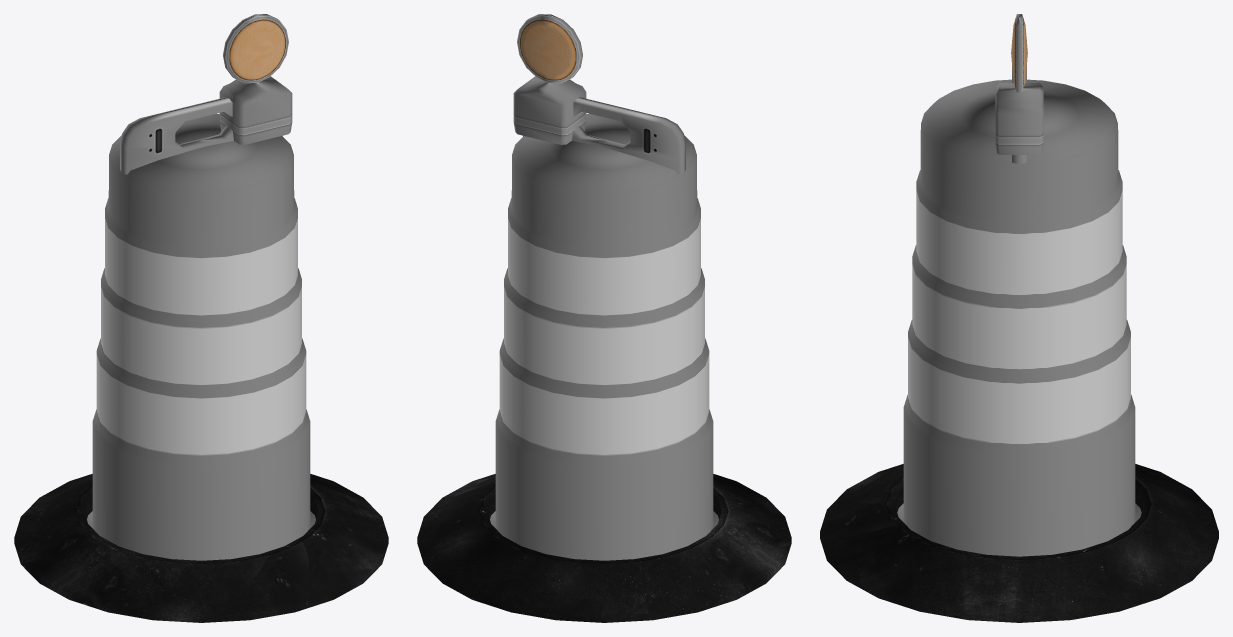
The model's file is construction_barrel.glb.
The picture shows the model from 3 angles, left to right: view 1: azimuth 30°, elevation 25°; view 2: azimuth 150°, elevation 25°; view 3: azimuth 270°, elevation 25°; orthographic projection. The views are drawn at different scales.
Parts seen in each view (by area): view 1: Cylinder002; view 2: Cylinder002; view 3: Cylinder002.
Part boxes in pixels (x1,y1,x2,y2): Cylinder002: (14, 14, 388, 622); Cylinder002: (417, 14, 791, 622); Cylinder002: (820, 14, 1218, 622).
Size of the model in its own units: 1.02 by 1.55 by 1.02.
1 material, 1 textured.
